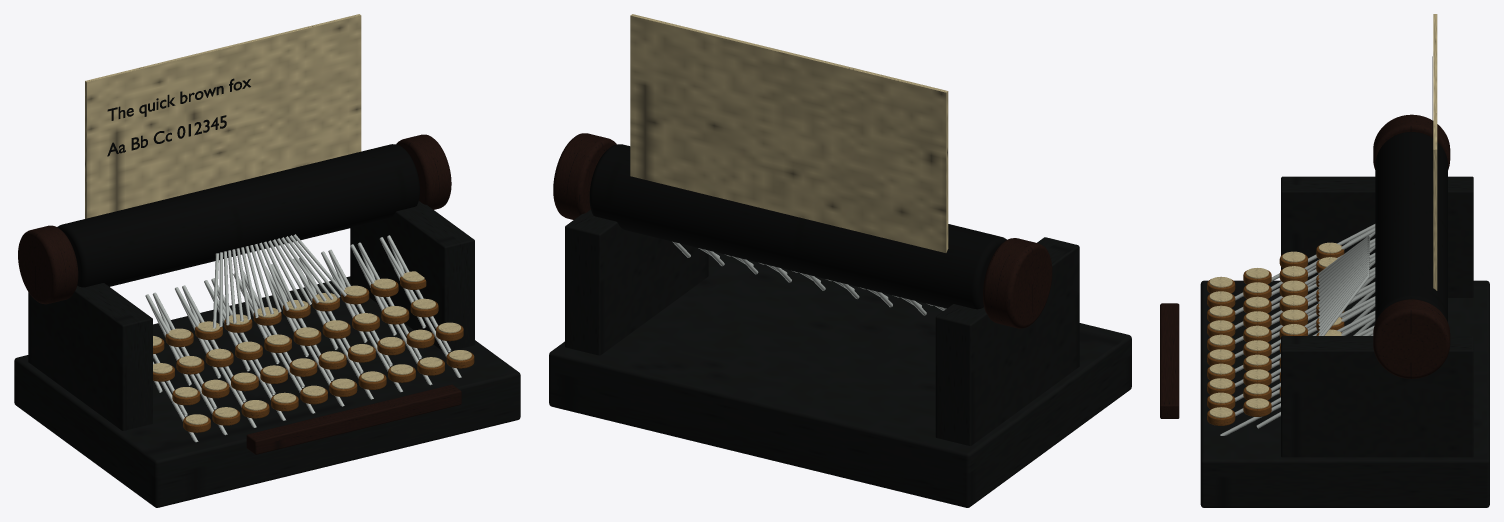
The model's file is type.glb.
The picture shows the model from 3 angles, left to right: view 1: azimuth 30°, elevation 25°; view 2: azimuth 150°, elevation 25°; view 3: azimuth 270°, elevation 25°; orthographic projection. The views are drawn at different scales.
Visible parts, largest first — view 1: Machine chassis, Inserted paper, Platen roller, Side cheek, Side cheek.001, Space bar, Platen knob, Platen knob.001, Typed line, Typed line 2; view 2: Machine chassis, Inserted paper, Platen roller, Side cheek, Side cheek.001, Platen knob, Platen knob.001; view 3: Machine chassis, Side cheek.001, Platen roller, Side cheek, Platen knob.001, Space bar, Platen knob, Inserted paper.
Part boxes in pixels (x1,y1,x2,y2): Machine chassis: (14,276,520,507); Inserted paper: (85,14,361,218); Platen roller: (57,144,419,287); Side cheek: (28,283,152,430); Side cheek.001: (350,201,474,351); Space bar: (246,384,461,454); Platen knob: (18,225,78,304); Platen knob.001: (396,134,451,209); Typed line: (107,78,250,120); Typed line 2: (107,115,226,156); Machine chassis: (549,252,1131,507); Inserted paper: (630,14,948,252); Platen roller: (589,144,1006,309); Side cheek: (935,237,1079,445); Side cheek.001: (565,209,708,355); Platen knob: (983,238,1052,328); Platen knob.001: (553,133,616,219); Machine chassis: (1200,280,1489,507); Side cheek.001: (1281,336,1473,457); Platen roller: (1375,132,1447,322); Side cheek: (1281,176,1473,297); Platen knob.001: (1373,299,1450,378); Space bar: (1160,303,1179,418); Platen knob: (1373,114,1450,169); Inserted paper: (1433,14,1437,290).
Bounding box in the file's own units: 2.4 × 1.91 × 1.7.
6 materials, 5 textured.
